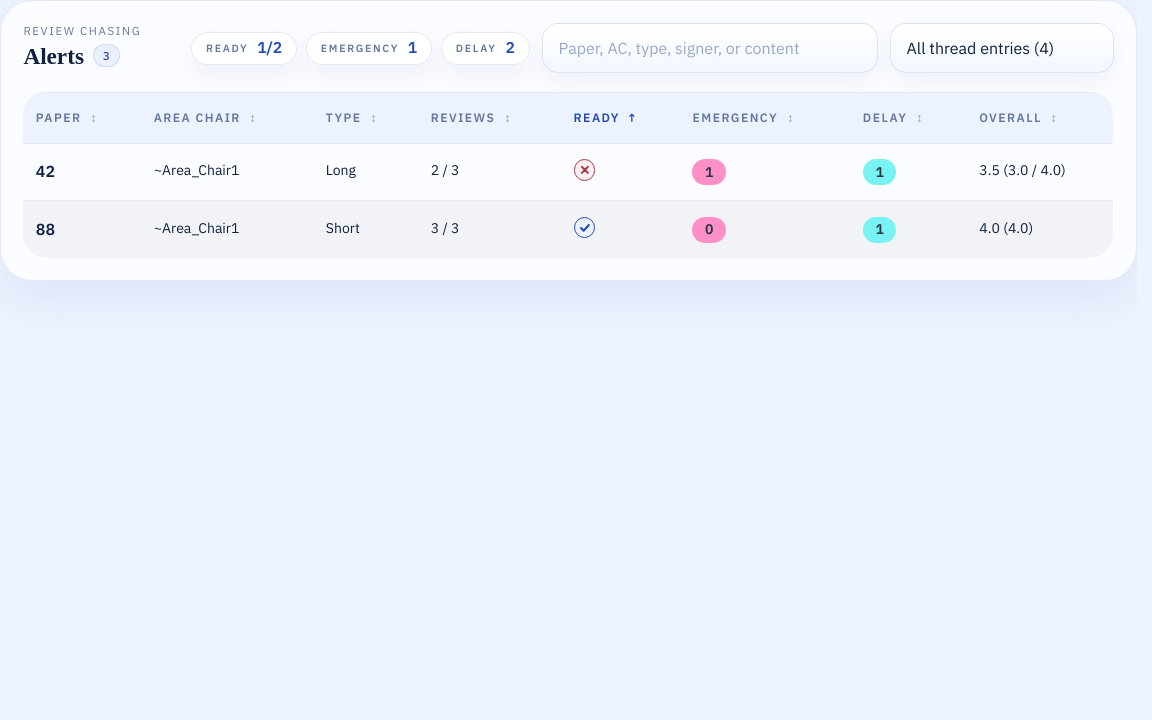
AlertsPanel › renders a compact alert table and expands alert details
This screenshot has width=1152, height=720.
Expected: the text named "3 alerts" reads "3", [103,48,110,63]
Expected: the text "Ready" next to "1/2" is shown, [206,41,248,55]
Click the row "42 ~Area_Chair1 Long 2 / 3 1 1 3.5 (3.0 / 4.0)" at {"x": 568, "y": 172}, box [23,143,1114,201]
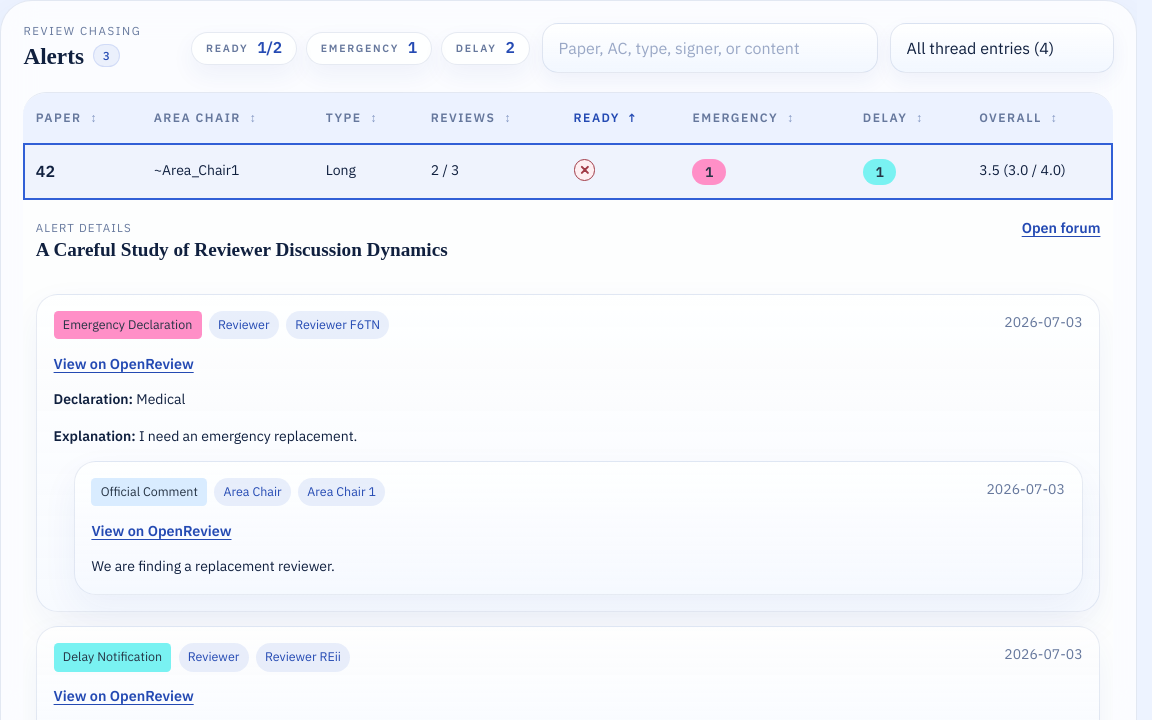
Expected: the text "Medical" is shown, [133,390,186,408]
Expected: the text "Explanation: I need an emergency replacement." is shown, [54,427,358,445]
Expected: the text "We are finding a replacement reviewer." is shown, [92,557,335,575]
